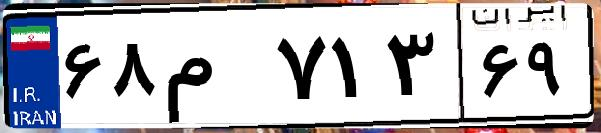1: (330, 28, 385, 110)
3: (385, 28, 445, 110)
6: (57, 26, 110, 100), (475, 38, 525, 113)
7: (270, 28, 330, 110)
8: (110, 28, 158, 98)
9: (525, 38, 570, 115)
م: (158, 20, 270, 120)
